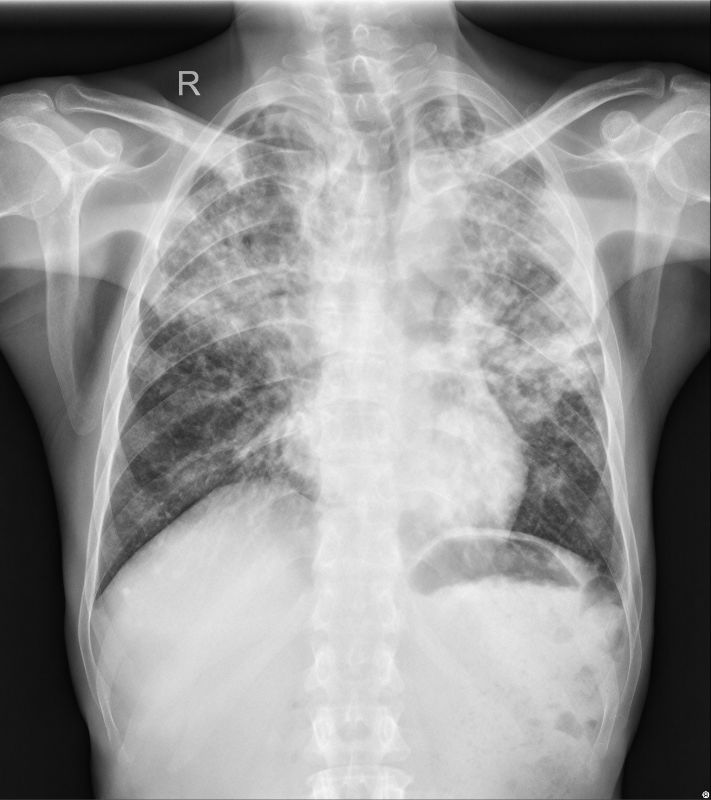Tuberculosis (TB): (173, 136, 311, 386), (443, 128, 538, 334), (521, 345, 603, 440)
